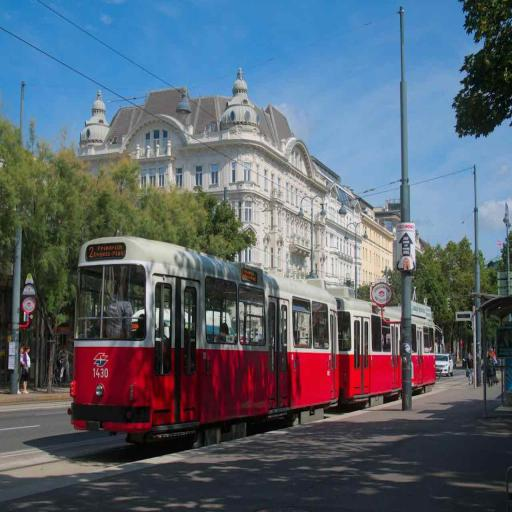E2-Tram: (68, 231, 438, 444)
